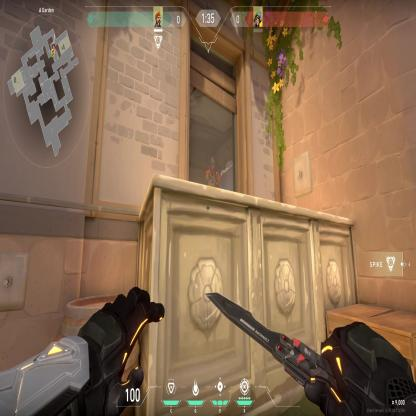enemy: (204, 154, 221, 190)
